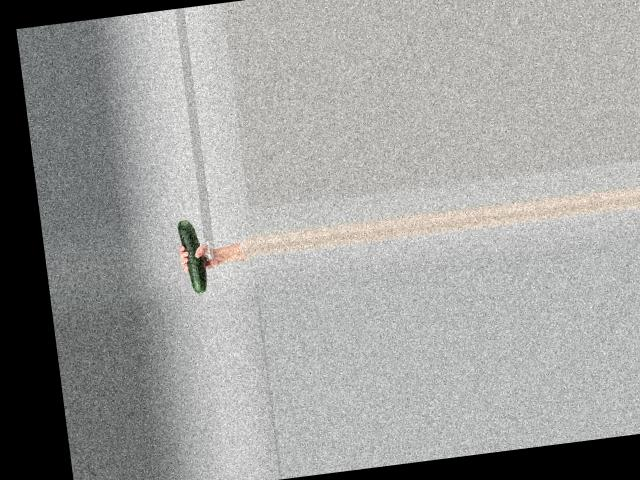cucumber: (176, 217, 208, 293)
